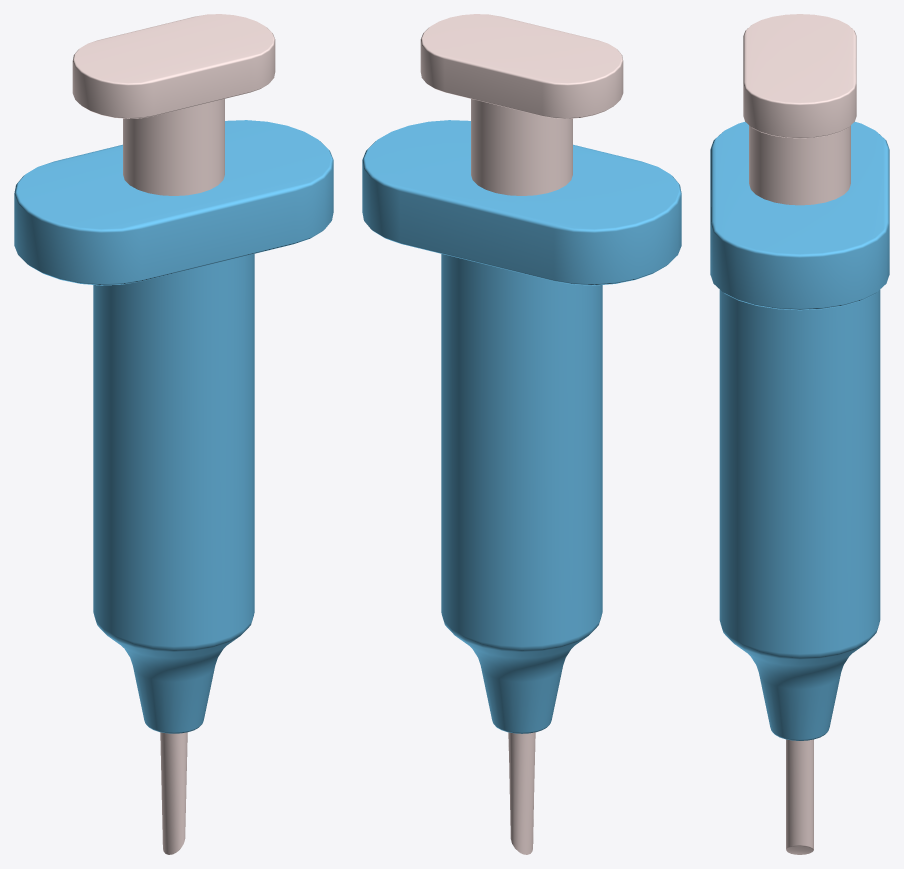
File: Public_3_Medicine_Syringe_1.glb
3 views of the same model, side by side, from view 1: azimuth 30°, elevation 25°; view 2: azimuth 150°, elevation 25°; view 3: azimuth 270°, elevation 25° (orthographic).
Visible parts, largest first — view 1: Public_3_Medicine_Syringe_1; view 2: Public_3_Medicine_Syringe_1; view 3: Public_3_Medicine_Syringe_1.
Boxes of the visible parts, x1,y1,x2,y2 form: Public_3_Medicine_Syringe_1: (14,14,333,854); Public_3_Medicine_Syringe_1: (362,14,681,854); Public_3_Medicine_Syringe_1: (710,14,889,854).
Bounding box in the file's own units: 1.77 × 4.63 × 0.9386.
Materials: 1 (1 with a texture image).
